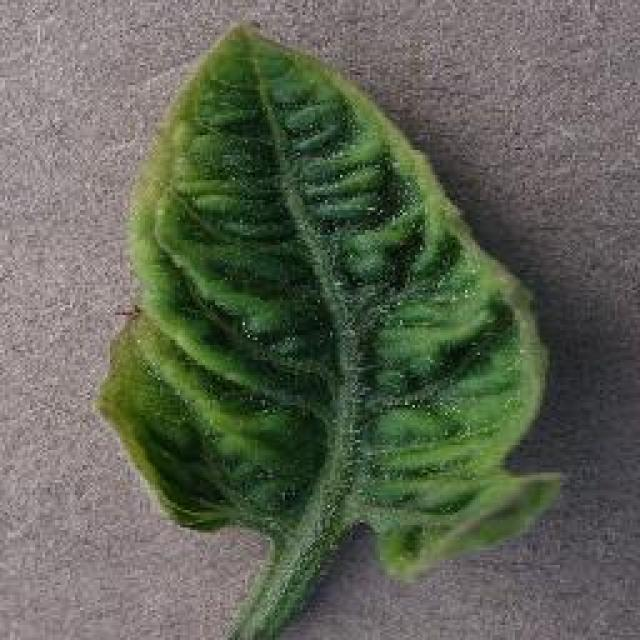Tom_Yellow_Leaf_Curl_Virus: (84, 62, 500, 514)
